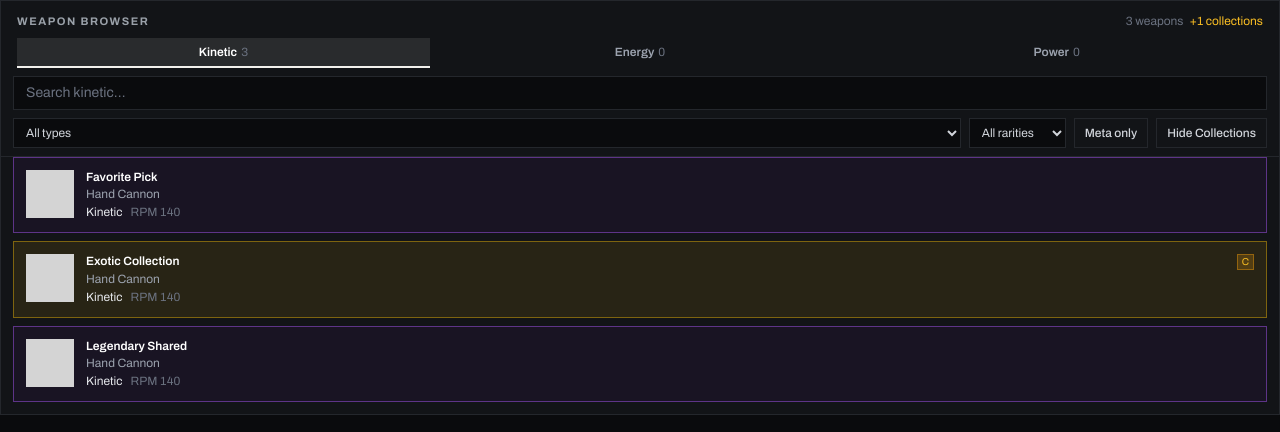
Test: WeaponPool › can hide collection weapons from the browser
The width and height of the screenshot is (1280, 432).
Expected: the text "Exotic Collection" is shown, [86,254,179,268]
Click the button "Hide Collections" at (1212, 132), box [1156,118,1267,148]
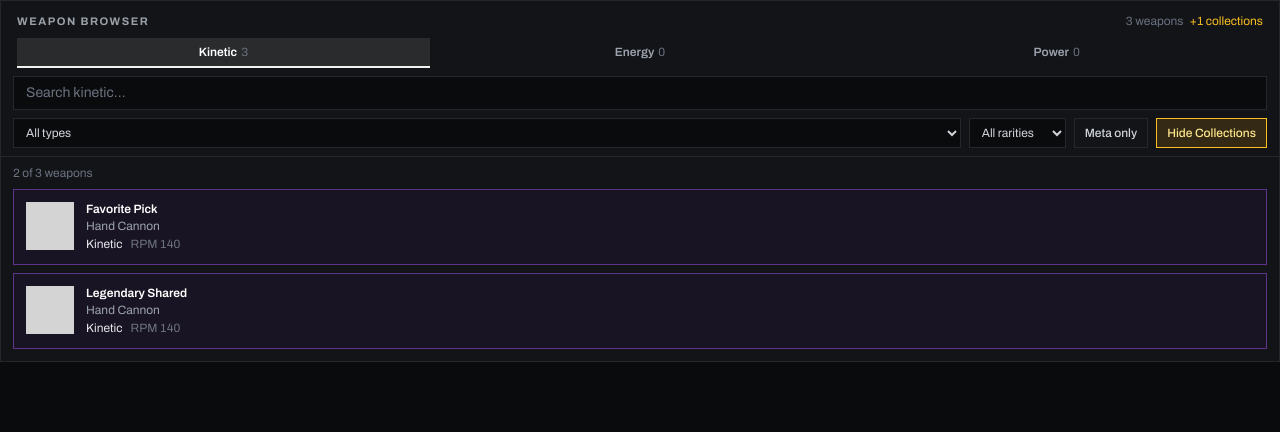
Expected: the text "Legendary Shared" is shown, [86,286,187,300]
Now the button "Exotic Collection" is gone
